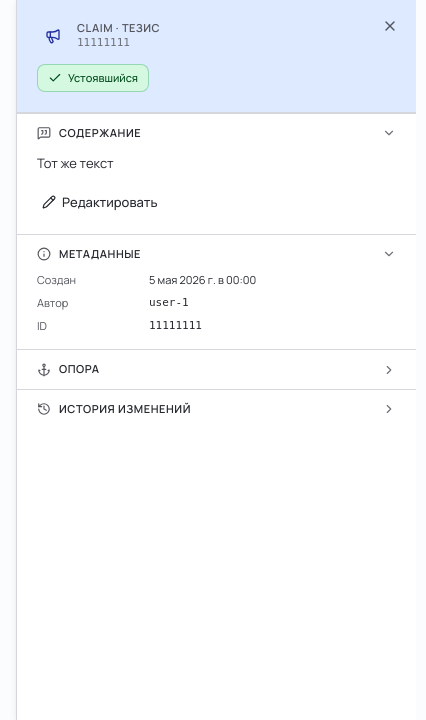
NodeDetailsPanel › Сохранить disabled если ничего не изменено
The image size is (426, 720).
Click the button "Редактировать": (100, 202) [29,186,171,218]
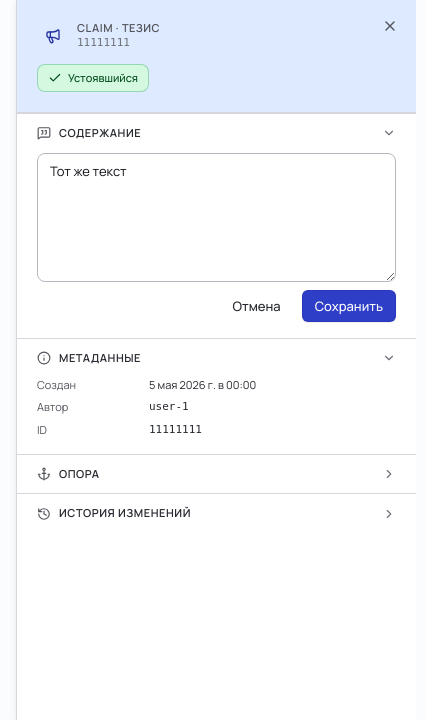
Click the button "Сохранить": (349, 306) [302,290,396,322]
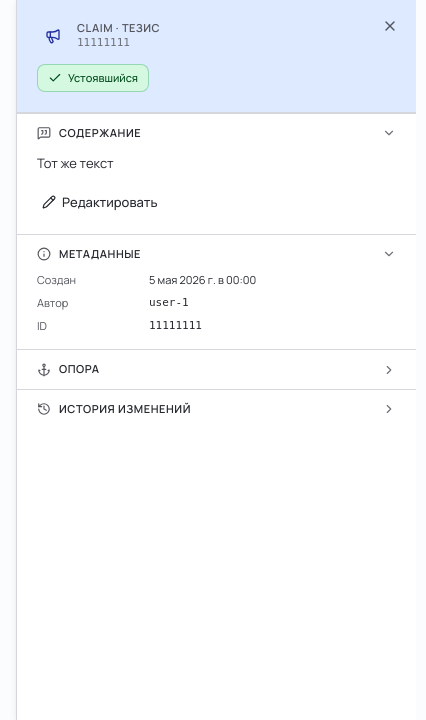
expect the text "Тот же текст" is shown: met, box [37,154,114,172]
